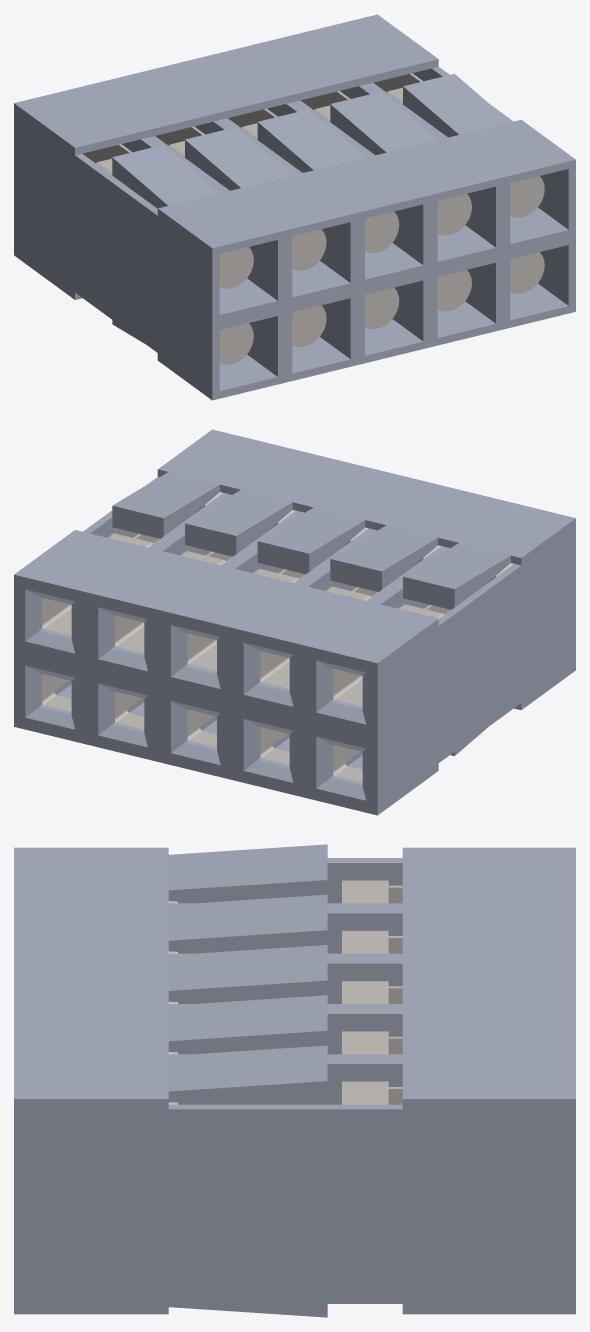
3 renders of one model, top to bottom at view 1: azimuth 30°, elevation 25°; view 2: azimuth 150°, elevation 25°; view 3: azimuth 270°, elevation 25°, orthographic. The views are drawn at different scales.
Visible parts, largest first — view 1: DS1071-2x5; view 2: DS1071-2x5; view 3: DS1071-2x5.
Boxes of the visible parts, box(x1,y1,x2,y2) form: DS1071-2x5: box(14, 14, 575, 400); DS1071-2x5: box(14, 429, 575, 815); DS1071-2x5: box(14, 844, 575, 1317).
Size of the model in its own units: 0.016 by 0.00703 by 0.0151.
